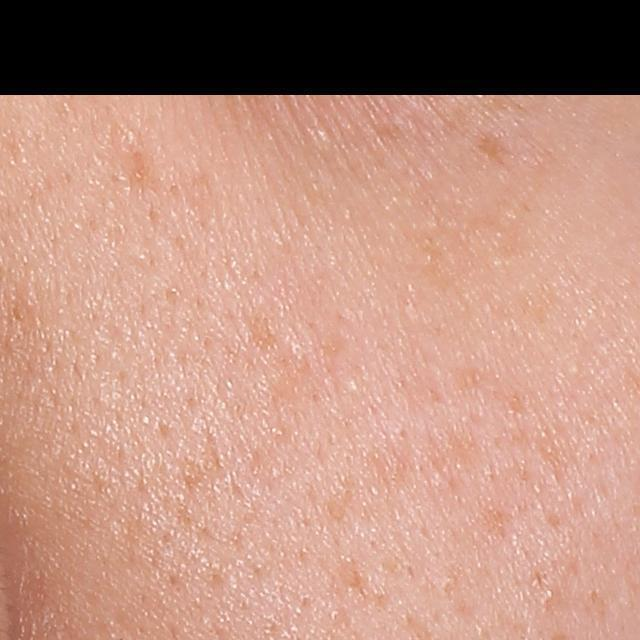melasma: (121, 137, 167, 201), (473, 127, 512, 166)
